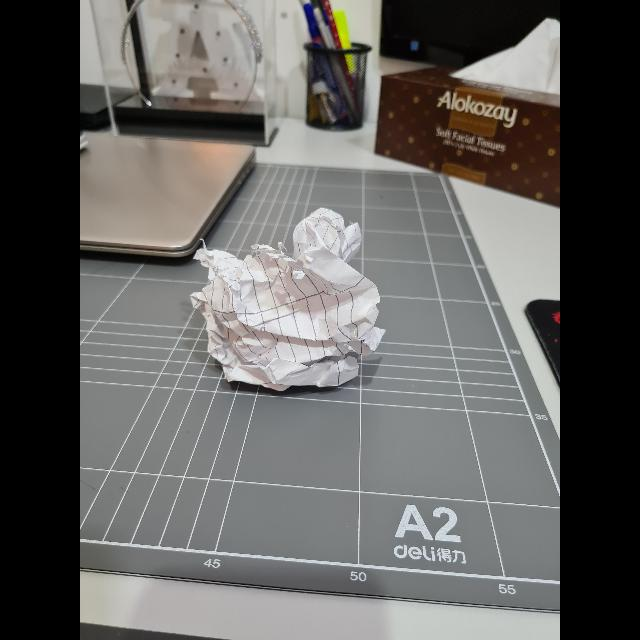scrap_paper: (198, 214, 388, 393)
